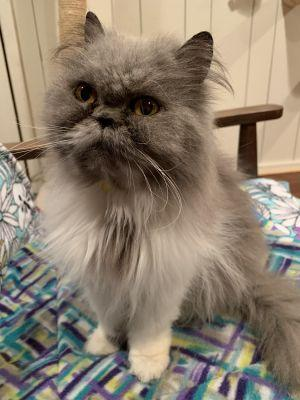persian: (34, 1, 224, 210)
